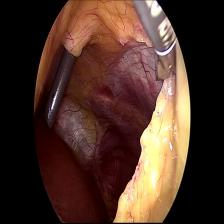Scissors: (150, 53, 180, 96)
